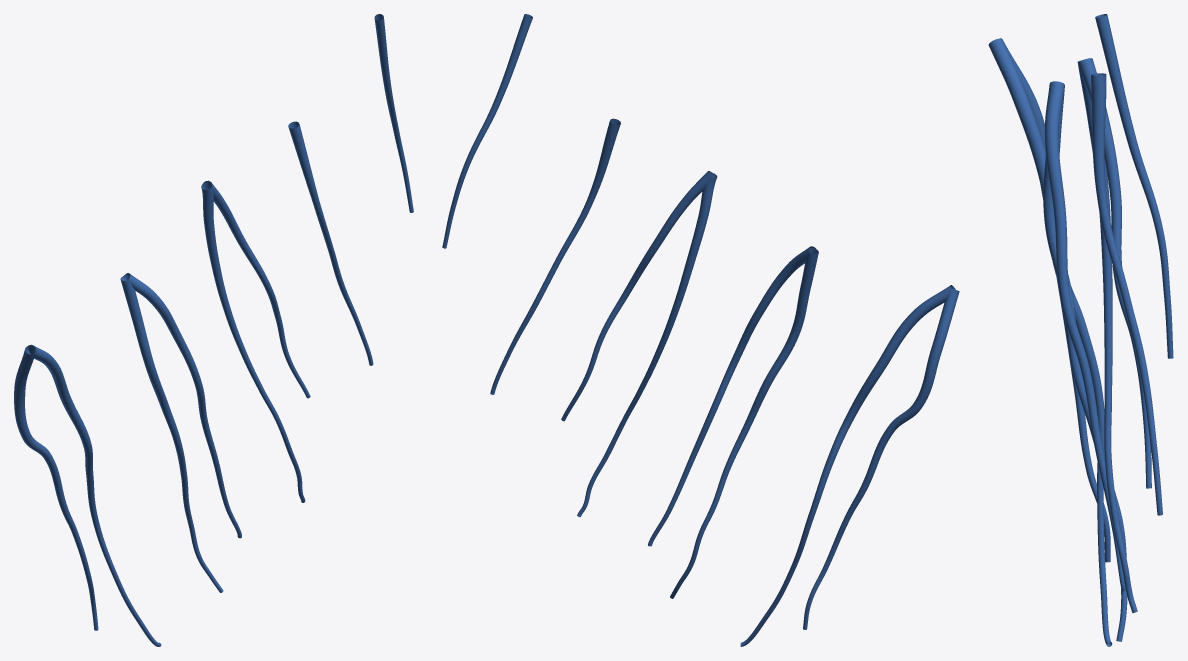
3 views of the same model, side by side, from view 1: azimuth 30°, elevation 25°; view 2: azimuth 150°, elevation 25°; view 3: azimuth 270°, elevation 25° (orthographic). The views are drawn at different scales.
Parts seen in each view (by area): view 1: 左侧趾背静脉; view 2: 左侧趾背静脉; view 3: 左侧趾背静脉.
Part boxes in pixels (box(x1,y1,x2,y2)): 左侧趾背静脉: box(14, 14, 413, 646); 左侧趾背静脉: box(442, 14, 959, 646); 左侧趾背静脉: box(988, 14, 1173, 646).
Size of the model in its own units: 0.0928 by 0.1135 by 0.0246.
